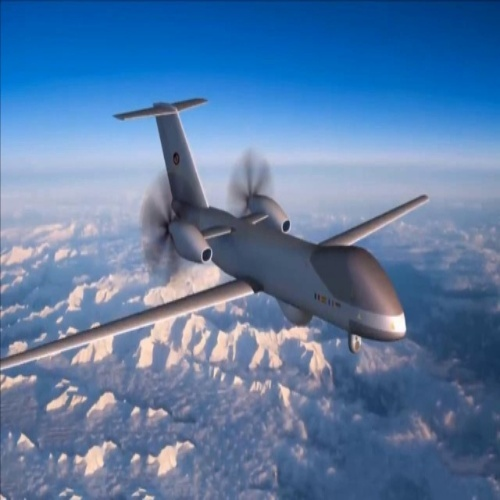uav945: (1, 99, 431, 376)
